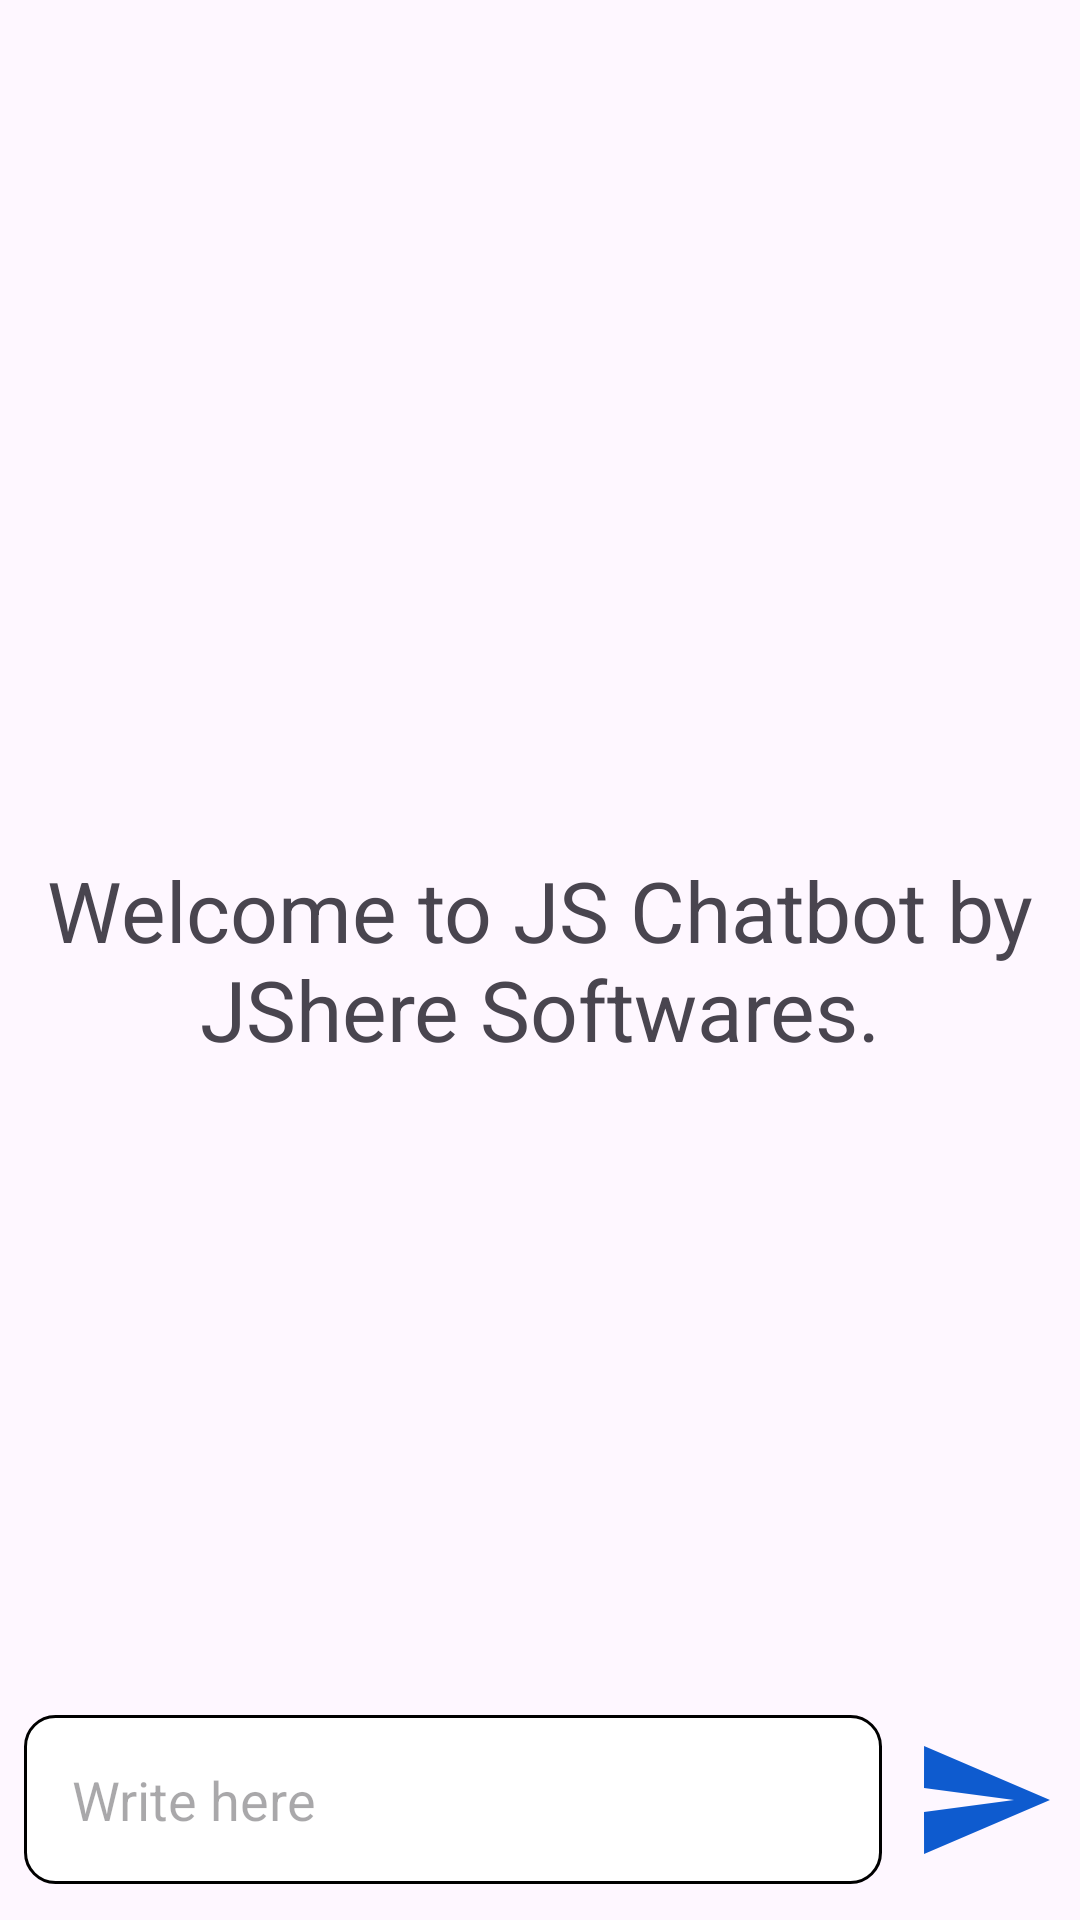

Where icons sit on this 1080*1920 app screen, as (x1, y1, x2, y2):
send: (924, 1746, 1050, 1854)
